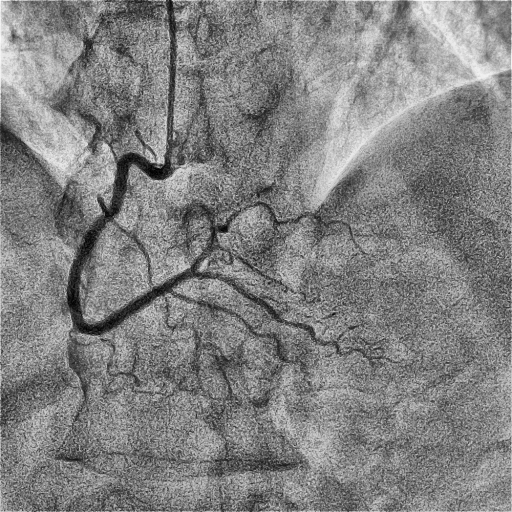pborca: (189, 201, 367, 273)
pda: (194, 273, 409, 363)
rca: (67, 153, 196, 336)
